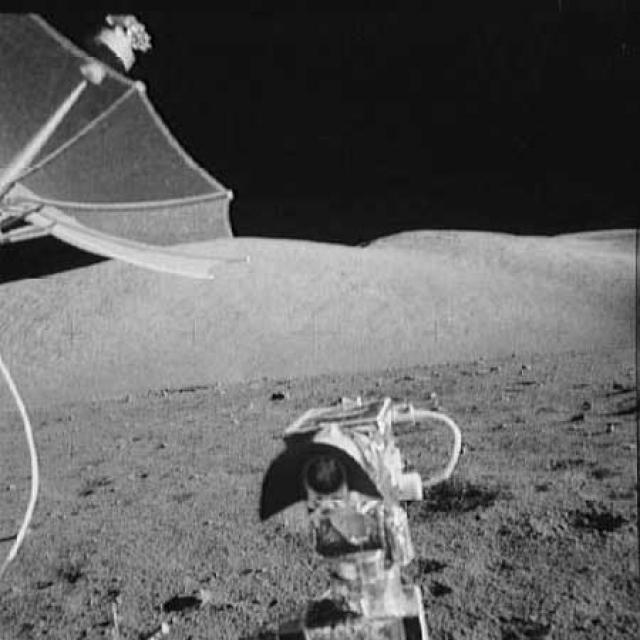artifact: (0, 2, 256, 284), (255, 390, 465, 638), (0, 358, 51, 592)
crater: (529, 388, 639, 417), (146, 382, 216, 400)
rock: (174, 580, 231, 612), (265, 387, 287, 405)
